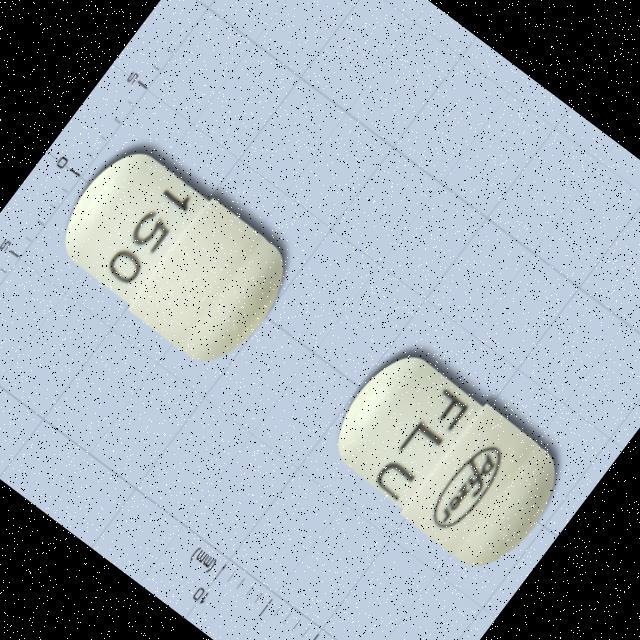Diflucan Cap: (313, 336, 576, 584), (41, 132, 304, 380)
